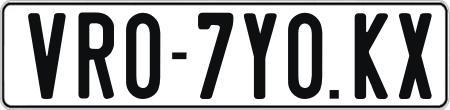0: (285, 11, 325, 97), (126, 12, 160, 98)
7: (197, 11, 233, 99)
K: (355, 13, 389, 105)
R: (78, 11, 115, 98)
V: (28, 13, 72, 105)
X: (399, 11, 434, 99)
Y: (244, 10, 283, 99)
